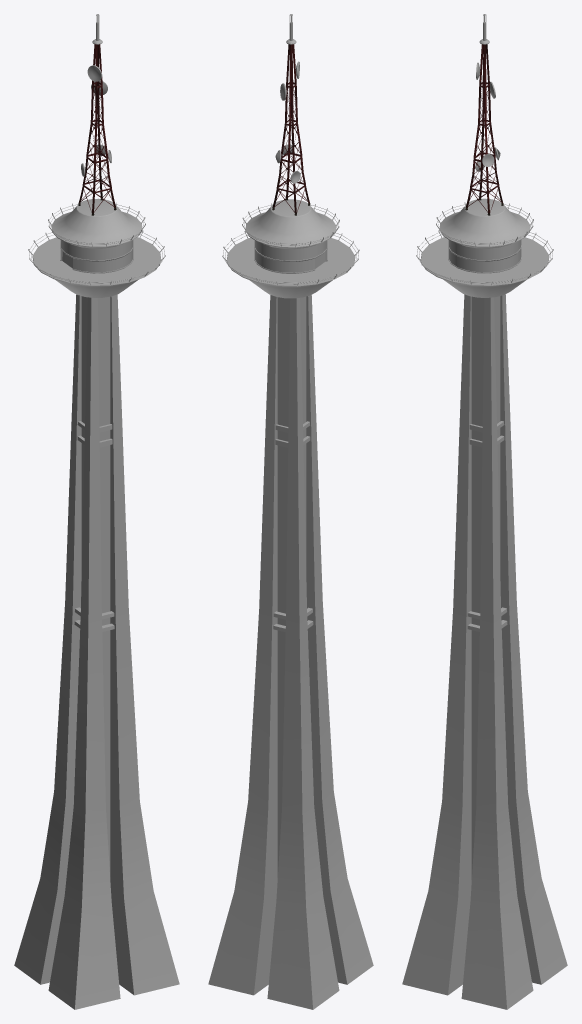
Rendered from ENV_RadioTower.fbx.
The picture shows the model from 3 angles, left to right: view 1: azimuth 30°, elevation 25°; view 2: azimuth 150°, elevation 25°; view 3: azimuth 330°, elevation 25°; orthographic projection.
Visible parts, largest first — view 1: base, building, tower, wires1; view 2: base, building, tower, wires1; view 3: base, building, tower, wires1.
Boxes of the visible parts, x1=… form: base: x1=14, y1=294, x2=179, y2=1009; building: x1=32, y1=198, x2=161, y2=297; tower: x1=78, y1=44, x2=116, y2=215; wires1: x1=29, y1=204, x2=164, y2=283; base: x1=208, y1=295, x2=373, y2=1009; building: x1=226, y1=199, x2=355, y2=298; tower: x1=272, y1=44, x2=310, y2=215; wires1: x1=223, y1=205, x2=358, y2=284; base: x1=402, y1=294, x2=567, y2=1009; building: x1=420, y1=198, x2=549, y2=297; tower: x1=465, y1=44, x2=503, y2=215; wires1: x1=417, y1=204, x2=552, y2=283.
Bounding box in the file's own units: 40.45 × 310 × 40.45.
7 materials, 1 textured.
